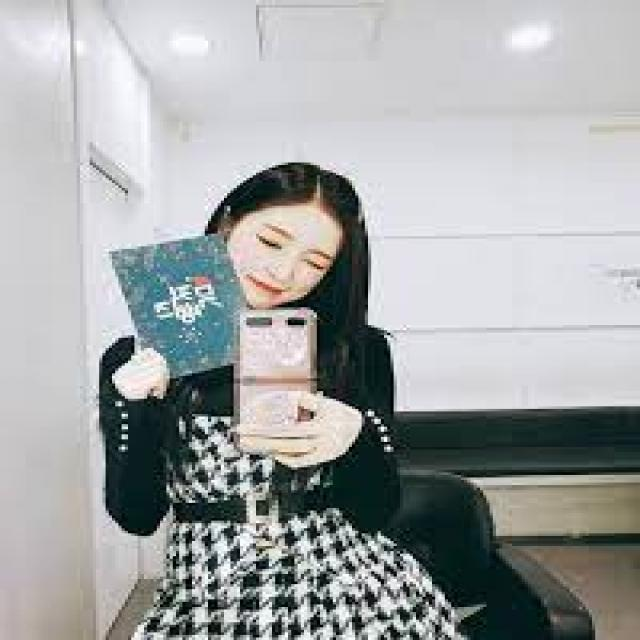Phone: (237, 310, 317, 430)
